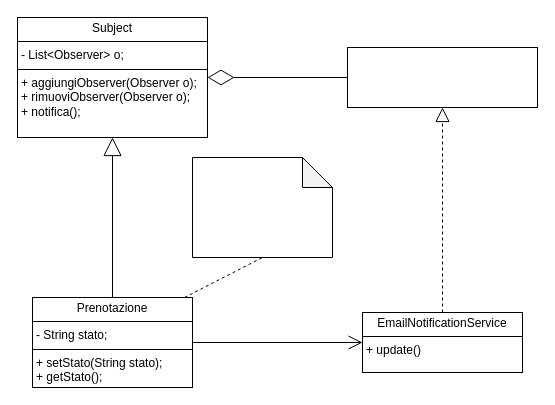
This 555x405 diagram has some shape labels left out. Each missing label, with the box of its shape:
Observer + update();: (346, 46, 538, 108)
setStato(String stato) { this.stato = stato; notifica(); }: (192, 156, 332, 258)
